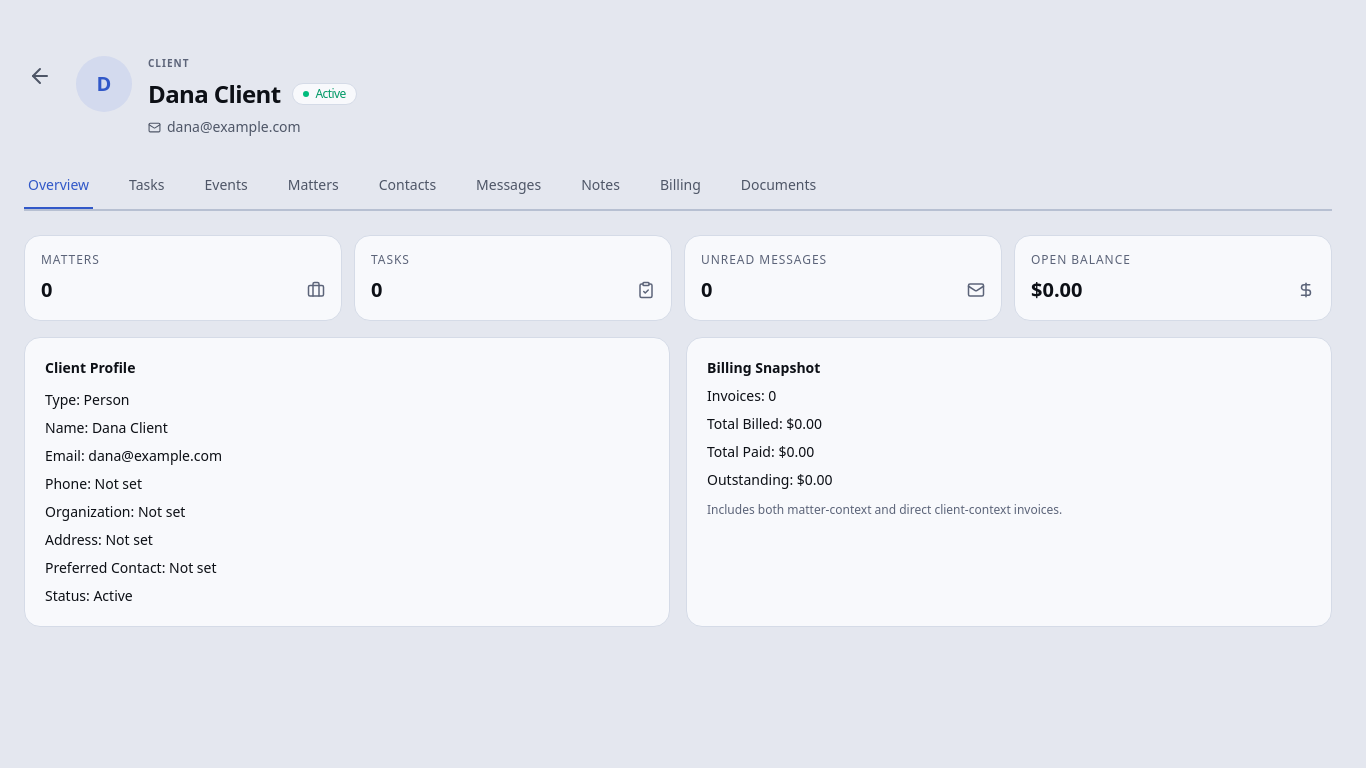
Test: offers Create Invoice to a member who can manage invoices
Click the button "Billing". click: {"x": 680, "y": 186}
box: [656,163,705,209]
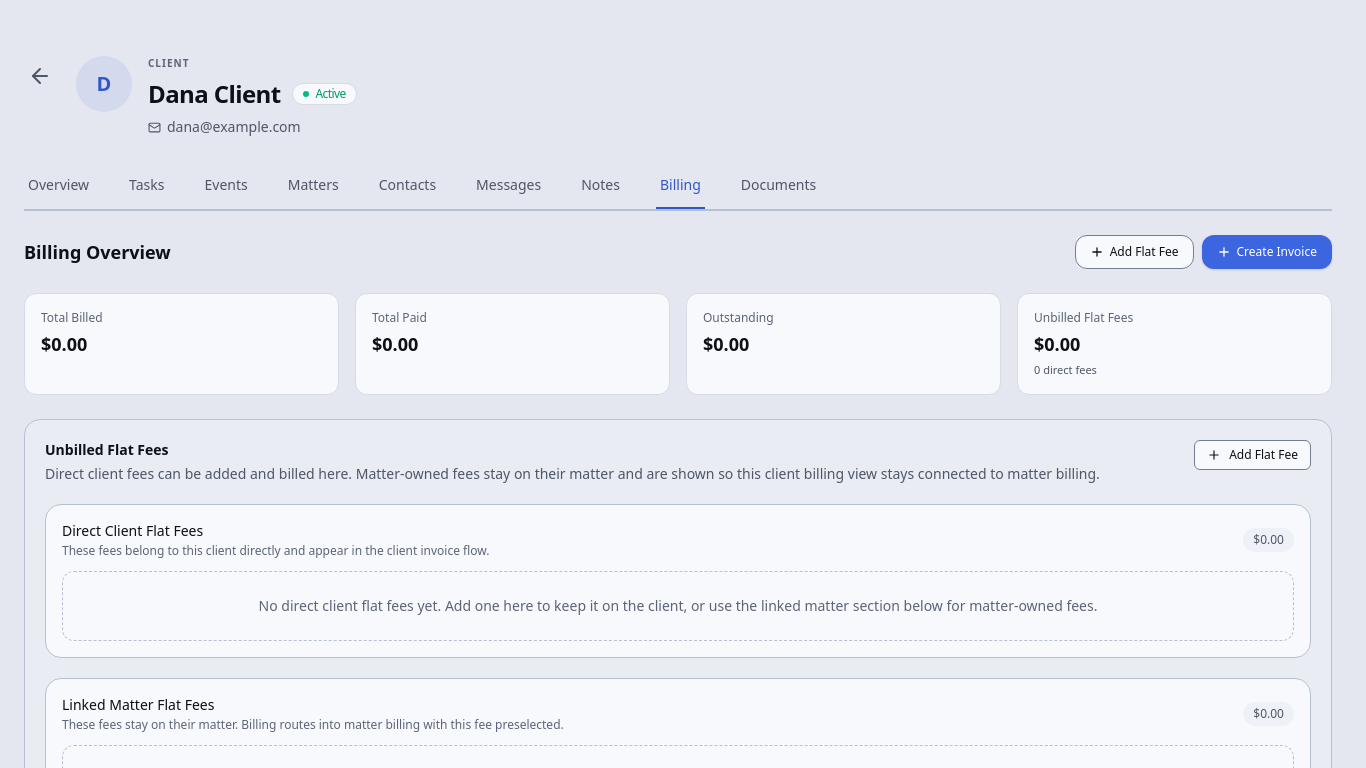
Expected: the heading "Billing Overview" is shown, [24,238,171,266]
Expected: the button "Create Invoice" is shown, [1202,235,1332,269]
